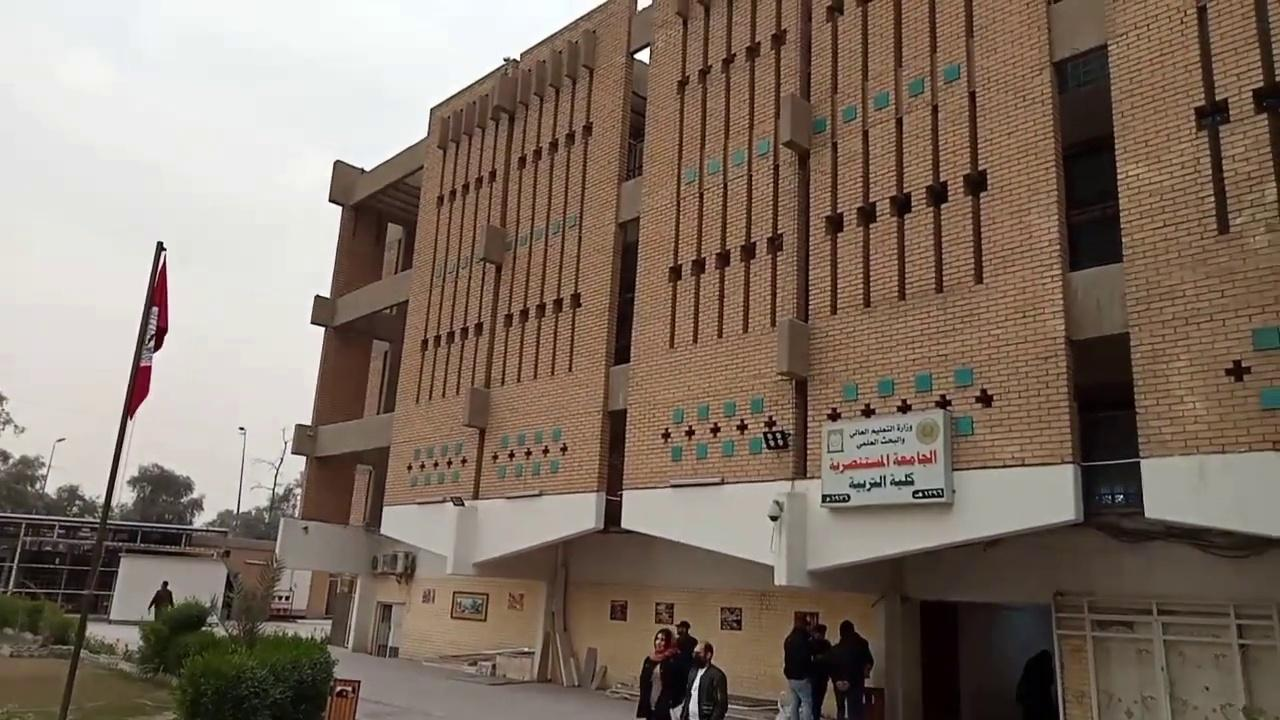person: (635, 627, 684, 719), (830, 619, 874, 719), (680, 640, 728, 719), (782, 611, 817, 719), (1014, 648, 1058, 719), (808, 623, 833, 719), (674, 620, 698, 718), (147, 579, 174, 621)
tree: (130, 551, 338, 718), (169, 628, 338, 718), (135, 594, 221, 679), (222, 551, 286, 648), (124, 461, 204, 529), (249, 427, 292, 528), (0, 449, 48, 514), (250, 480, 294, 524), (53, 482, 99, 518), (0, 389, 25, 438)
